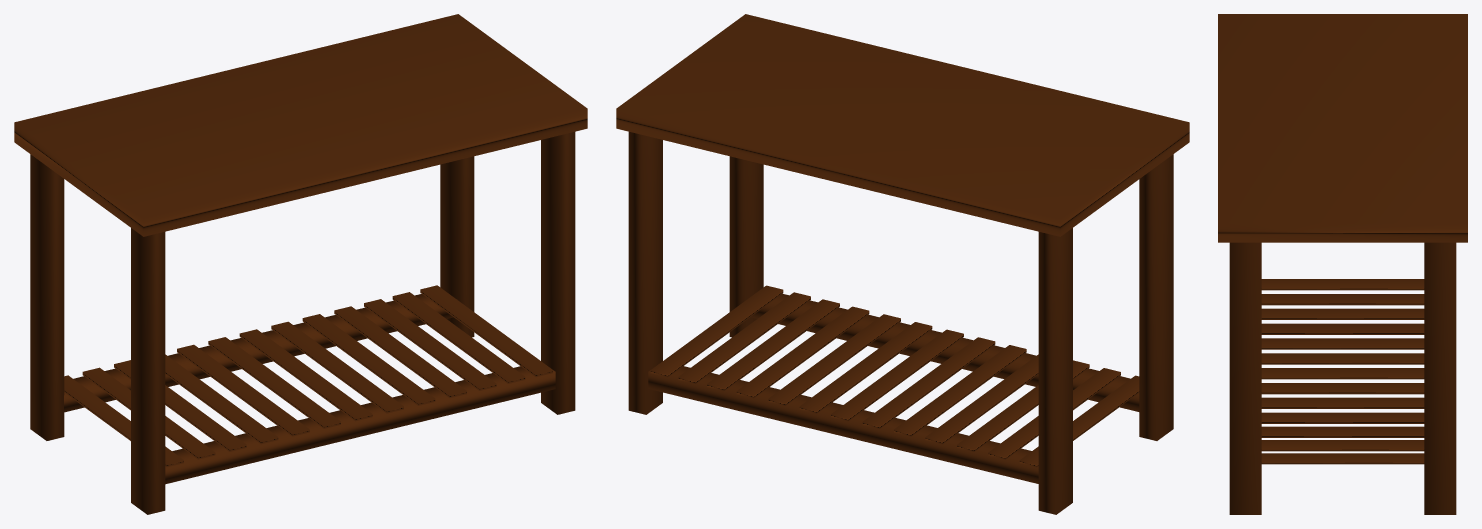
The model's file is GardeningTable.fbx.
3 renders of one model, left to right at view 1: azimuth 30°, elevation 25°; view 2: azimuth 150°, elevation 25°; view 3: azimuth 270°, elevation 25°, orthographic. The views are drawn at different scales.
Parts seen in each view (by area): view 1: TableTop, TableLeg, TableLeg1, TableLeg3, LowerTableSupport, TableLeg2, LowerTableSupport1, pCube18, pCube21, pCube17, pCube23, pCube22 (+8 smaller); view 2: TableTop, TableLeg1, TableLeg, TableLeg2, LowerTableSupport1, TableLeg3, LowerTableSupport, pCube24, pCube20, pCube17, pCube21, pCube22 (+8 smaller); view 3: TableTop, TableLeg2, TableLeg3, pCube24, pCube25, pCube17, pCube18, pCube19, pCube20, pCube21, pCube22, pCube23 (+4 smaller).
Boxes of the visible parts, <box> form: TableTop: <box>14,14,587,236</box>; TableLeg: <box>131,228,165,514</box>; TableLeg1: <box>30,154,64,440</box>; TableLeg3: <box>541,132,575,414</box>; LowerTableSupport: <box>165,366,555,484</box>; TableLeg2: <box>440,156,474,337</box>; LowerTableSupport1: <box>64,294,453,412</box>; pCube18: <box>392,292,525,383</box>; pCube21: <box>302,314,435,405</box>; pCube17: <box>420,285,552,377</box>; pCube23: <box>239,329,372,421</box>; pCube22: <box>271,321,403,413</box>; TableTop: <box>616,14,1189,236</box>; TableLeg1: <box>1038,228,1072,514</box>; TableLeg: <box>1139,154,1173,440</box>; TableLeg2: <box>628,131,662,414</box>; LowerTableSupport1: <box>648,366,1038,483</box>; TableLeg3: <box>729,156,763,337</box>; LowerTableSupport: <box>750,293,1139,411</box>; pCube24: <box>862,337,995,429</box>; pCube20: <box>736,306,869,398</box>; pCube17: <box>650,285,783,377</box>; pCube21: <box>768,314,900,405</box>; pCube22: <box>799,322,932,413</box>; TableTop: <box>1218,14,1467,242</box>; TableLeg2: <box>1424,242,1456,514</box>; TableLeg3: <box>1229,242,1261,514</box>; pCube24: <box>1261,353,1424,364</box>; pCube25: <box>1261,338,1424,349</box>; pCube17: <box>1261,453,1424,464</box>; pCube18: <box>1261,440,1424,451</box>; pCube19: <box>1261,426,1424,437</box>; pCube20: <box>1261,412,1424,423</box>; pCube21: <box>1261,397,1424,408</box>; pCube22: <box>1261,383,1424,394</box>; pCube23: <box>1261,368,1424,379</box>.
Size of the model in its own units: 145 by 95.4 by 73.29.
1 material, 1 textured.
